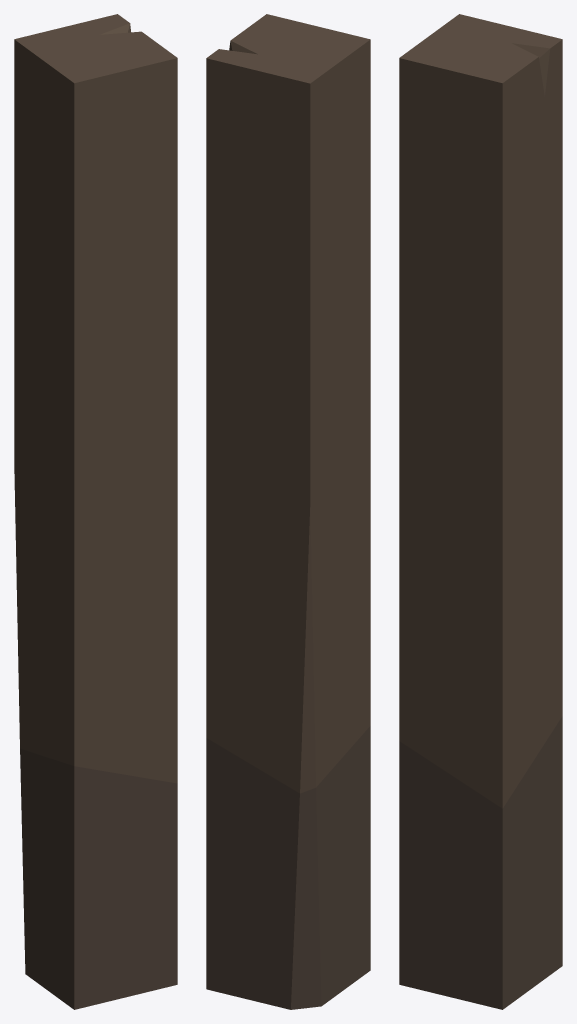
Rendered from SM_Props_Farm_Fence_Square_T2_Post.fbx.
3 renders of one model, left to right at view 1: azimuth 30°, elevation 25°; view 2: azimuth 150°, elevation 25°; view 3: azimuth 330°, elevation 25°, orthographic.
Parts seen in each view (by area): view 1: SM_Props_Farm_Fence_Square_T2_Post; view 2: SM_Props_Farm_Fence_Square_T2_Post; view 3: SM_Props_Farm_Fence_Square_T2_Post.
Part boxes in pixels (bbox=[...]): SM_Props_Farm_Fence_Square_T2_Post: bbox=[14, 14, 177, 1009]; SM_Props_Farm_Fence_Square_T2_Post: bbox=[206, 14, 370, 1009]; SM_Props_Farm_Fence_Square_T2_Post: bbox=[399, 14, 562, 1009].
Size of the model in its own units: 15.9 by 136 by 16.
